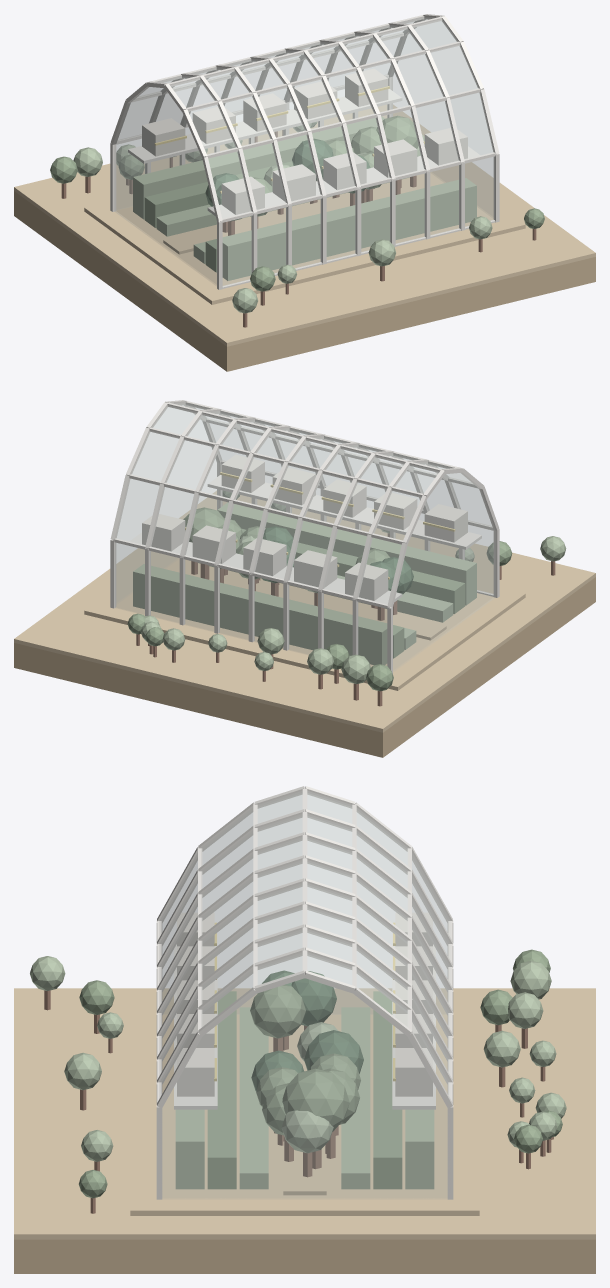
Rendered from pavillon_02.glb.
3 views of the same model, one above another, from view 1: azimuth 30°, elevation 25°; view 2: azimuth 150°, elevation 25°; view 3: azimuth 270°, elevation 25° (orthographic). The views are drawn at different scales.
Parts seen in each view (by area): view 1: pavillon_02_verre, pavillon_02_carton, pavillon_02_socle, pavillon_02_vert, pavillon_02_chant, pavillon_02_pise, pavillon_02_carton2, pavillon_02_vert2, pavillon_02_brun, pavillon_02_vertf, pavillon_02_jaune; view 2: pavillon_02_verre, pavillon_02_socle, pavillon_02_carton, pavillon_02_vert, pavillon_02_chant, pavillon_02_carton2, pavillon_02_pise, pavillon_02_vert2, pavillon_02_brun, pavillon_02_vertf, pavillon_02_jaune; view 3: pavillon_02_verre, pavillon_02_socle, pavillon_02_carton, pavillon_02_pise, pavillon_02_vert, pavillon_02_vert2, pavillon_02_chant, pavillon_02_carton2, pavillon_02_vertf, pavillon_02_brun.
Boxes of the visible parts, bbox=[...] form: pavillon_02_verre: bbox=[115, 17, 494, 286]; pavillon_02_carton: bbox=[110, 14, 499, 289]; pavillon_02_socle: bbox=[14, 104, 595, 346]; pavillon_02_vert: bbox=[73, 116, 492, 313]; pavillon_02_chant: bbox=[14, 191, 595, 371]; pavillon_02_pise: bbox=[84, 168, 525, 304]; pavillon_02_carton2: bbox=[142, 68, 467, 214]; pavillon_02_vert2: bbox=[50, 115, 544, 291]; pavillon_02_brun: bbox=[61, 130, 536, 327]; pavillon_02_vertf: bbox=[205, 138, 370, 221]; pavillon_02_jaune: bbox=[154, 86, 424, 193]; pavillon_02_verre: bbox=[115, 403, 494, 671]; pavillon_02_socle: bbox=[14, 490, 595, 732]; pavillon_02_carton: bbox=[110, 400, 499, 674]; pavillon_02_vert: bbox=[133, 502, 566, 684]; pavillon_02_chant: bbox=[14, 577, 595, 757]; pavillon_02_carton2: bbox=[142, 454, 467, 600]; pavillon_02_pise: bbox=[84, 554, 525, 690]; pavillon_02_vert2: bbox=[127, 490, 512, 691]; pavillon_02_brun: bbox=[136, 533, 555, 706]; pavillon_02_vertf: bbox=[262, 526, 413, 594]; pavillon_02_jaune: bbox=[185, 472, 455, 579]; pavillon_02_verre: bbox=[160, 791, 449, 1198]; pavillon_02_socle: bbox=[14, 988, 595, 1239]; pavillon_02_carton: bbox=[156, 786, 453, 1199]; pavillon_02_pise: bbox=[130, 1001, 479, 1215]; pavillon_02_vert: bbox=[30, 956, 566, 1189]; pavillon_02_vert2: bbox=[78, 949, 562, 1198]; pavillon_02_chant: bbox=[14, 1239, 595, 1273]; pavillon_02_carton2: bbox=[177, 912, 432, 1096]; pavillon_02_vertf: bbox=[251, 970, 363, 1091]; pavillon_02_brun: bbox=[44, 990, 553, 1213].
Size of the model in its own units: 0.4 by 0.2059 by 0.4.
